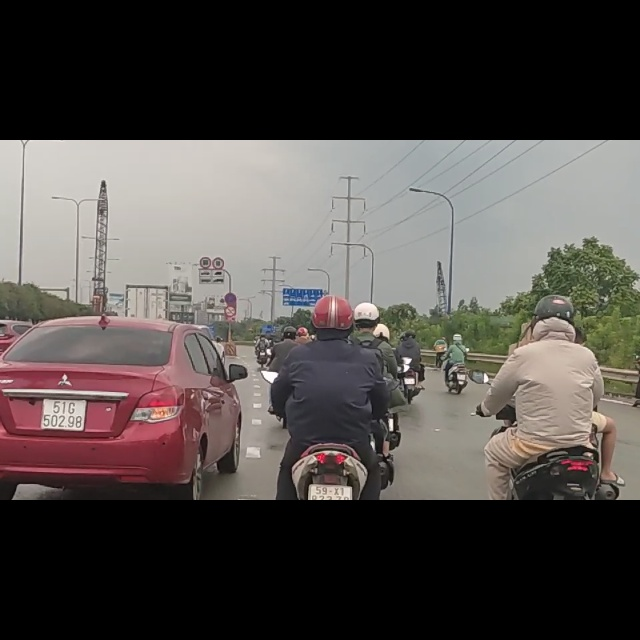bien_cam: (224, 272, 237, 293)
